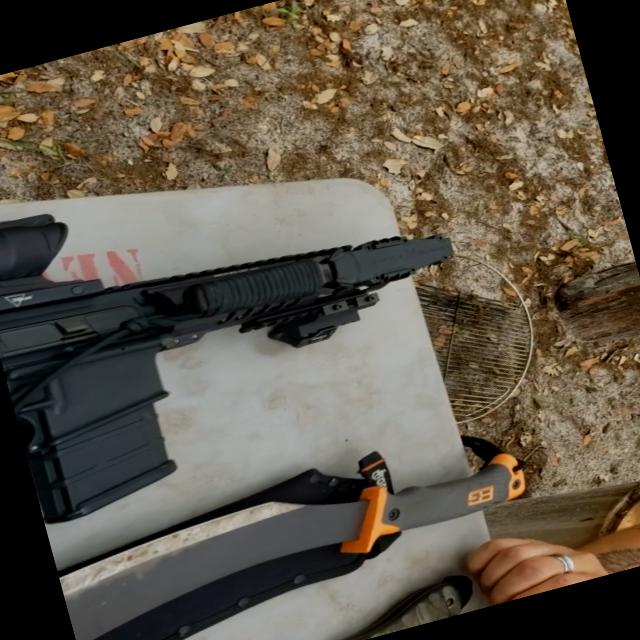knife: (48, 416, 540, 639)
long weapon: (0, 89, 508, 531)
